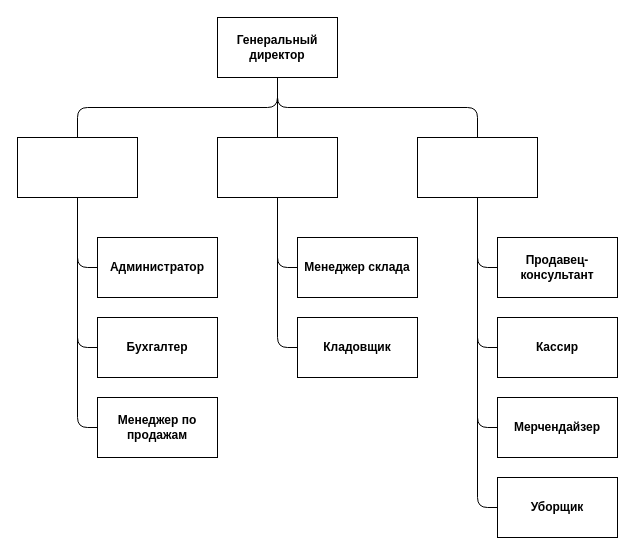
Image size: 635x555. Some labels were removed from this diagram. Each missing label, with the box of its shape:
Отдел администрации: (16, 136, 138, 198)
Отдел работы в торговом зале: (416, 136, 538, 198)
Отдел хранения: (216, 136, 338, 198)
